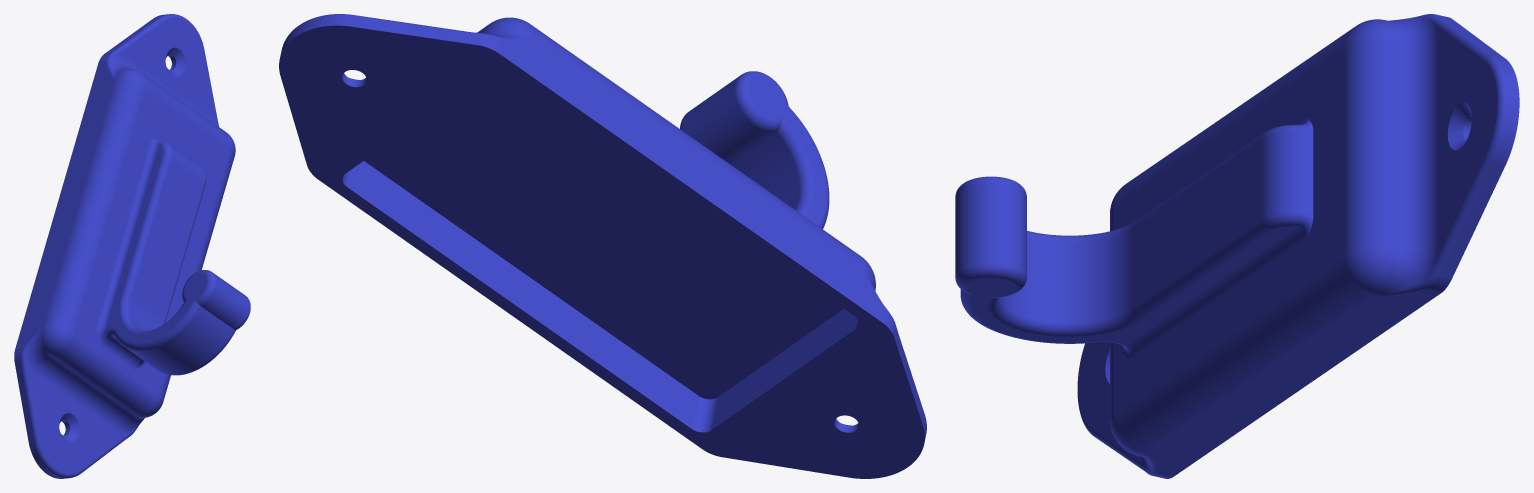
Rendered from coverhook.glb.
The picture shows the model from 3 angles, left to right: view 1: azimuth 30°, elevation 25°; view 2: azimuth 150°, elevation 25°; view 3: azimuth 270°, elevation 25°; orthographic projection. The views are drawn at different scales.
Size of the model in its own units: 0.0747 by 0.0804 by 0.0749.
